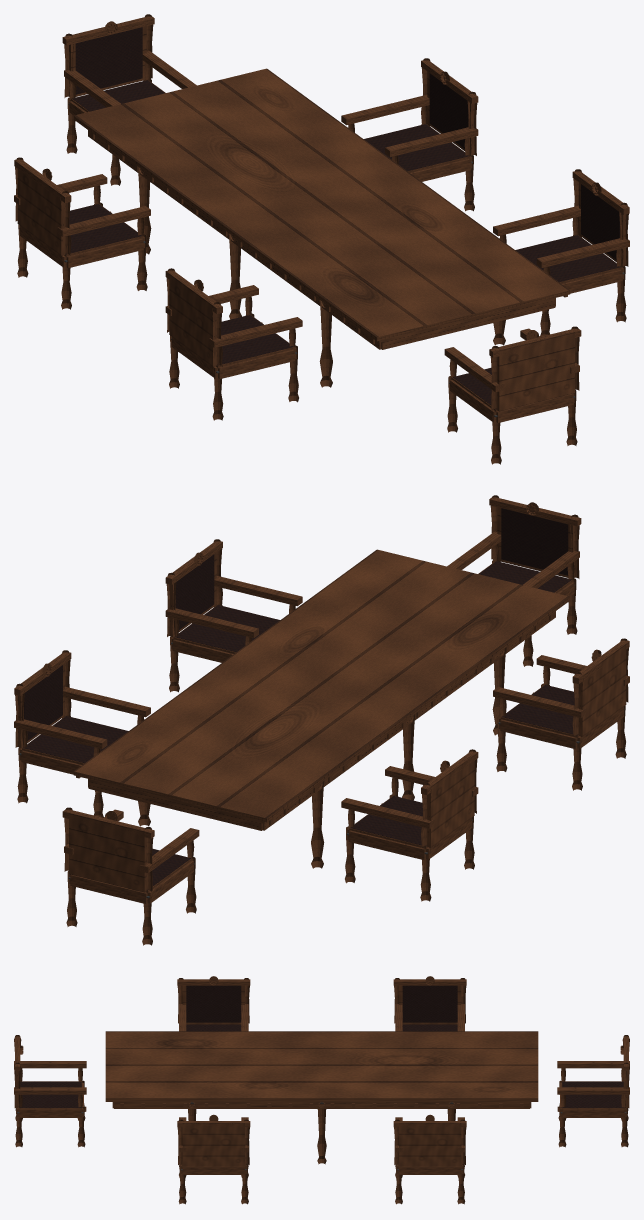
The model's file is dining_luxury.obj.
3 views of the same model, one above another, from view 1: azimuth 30°, elevation 25°; view 2: azimuth 150°, elevation 25°; view 3: azimuth 270°, elevation 25° (orthographic). The views are drawn at different scales.
Visible parts, largest first — view 1: material_5, material_2; view 2: material_5, material_2; view 3: material_5, material_2.
Boxes of the visible parts, x1,y1,x2,y2 form: material_5: [14, 14, 629, 464]; material_2: [66, 27, 620, 409]; material_5: [14, 495, 629, 945]; material_2: [23, 508, 577, 890]; material_5: [14, 976, 629, 1204]; material_2: [19, 985, 624, 1107].
Bounding box in the file's own units: 105 × 30.05 × 189.
Materials: 3 (3 with a texture image).
